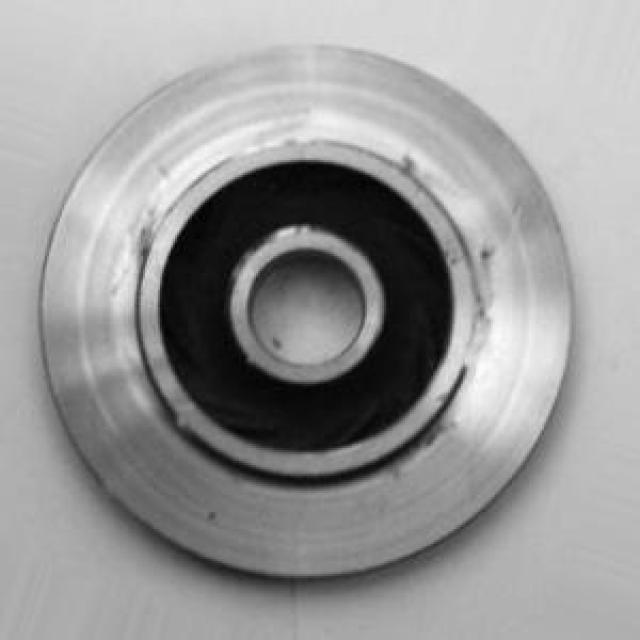Defect: (476, 236, 498, 267)
